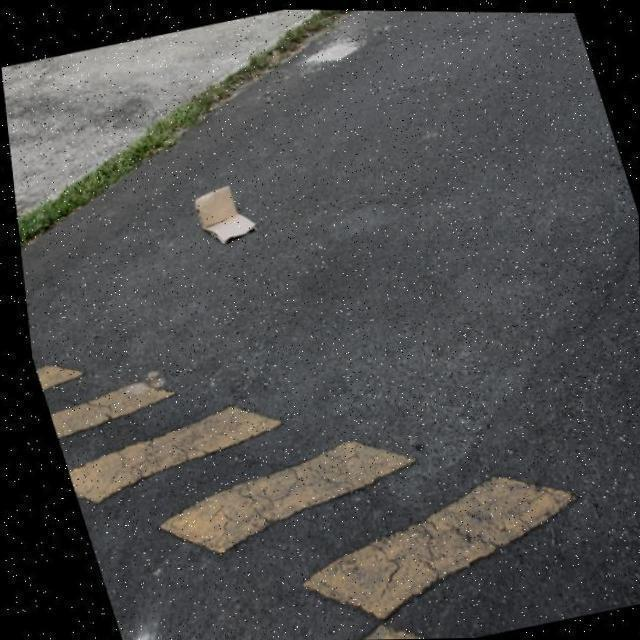Paper_Bag: (184, 178, 256, 249)
